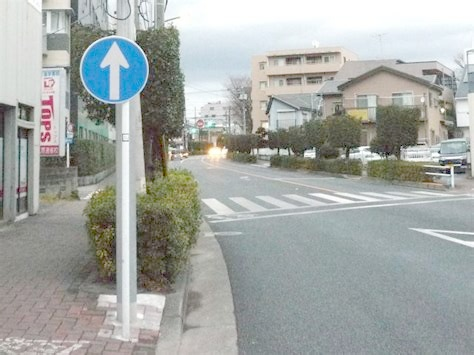Direction_sign: (75, 27, 145, 98)
